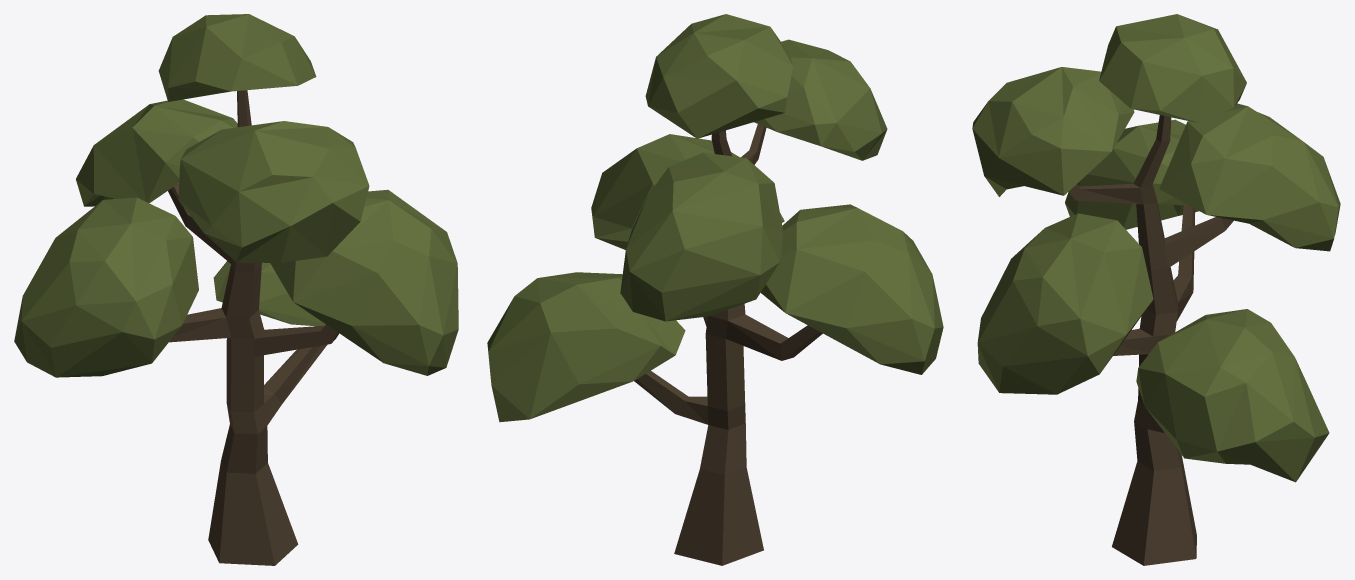
File: SM_Env_Tree_012.gltf
The picture shows the model from 3 angles, left to right: view 1: azimuth 30°, elevation 25°; view 2: azimuth 150°, elevation 25°; view 3: azimuth 270°, elevation 25°; orthographic projection.
Parts seen in each view (by area): view 1: SM_Env_Tree_012; view 2: SM_Env_Tree_012; view 3: SM_Env_Tree_012.
Boxes of the visible parts, box(x1,y1,x2,y2) form: SM_Env_Tree_012: box(14, 14, 458, 565); SM_Env_Tree_012: box(487, 14, 943, 565); SM_Env_Tree_012: box(972, 14, 1340, 565).
Bounding box in the file's own units: 4.08 × 5.03 × 3.25.
1 material, 1 textured.
